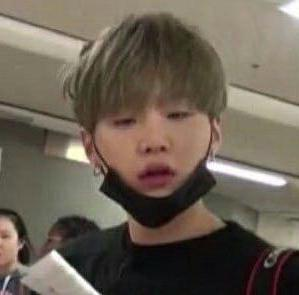mask_weared_incorrect: (91, 107, 210, 220)
without_mask: (1, 225, 15, 268)
